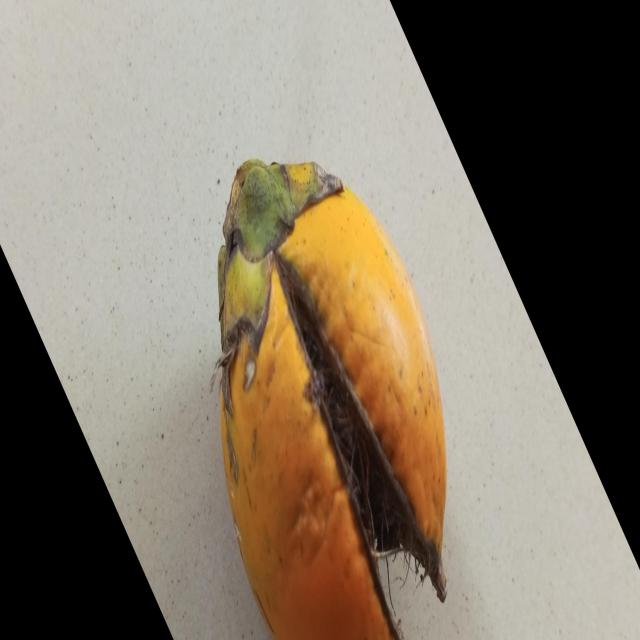damaged: (219, 161, 448, 640)
